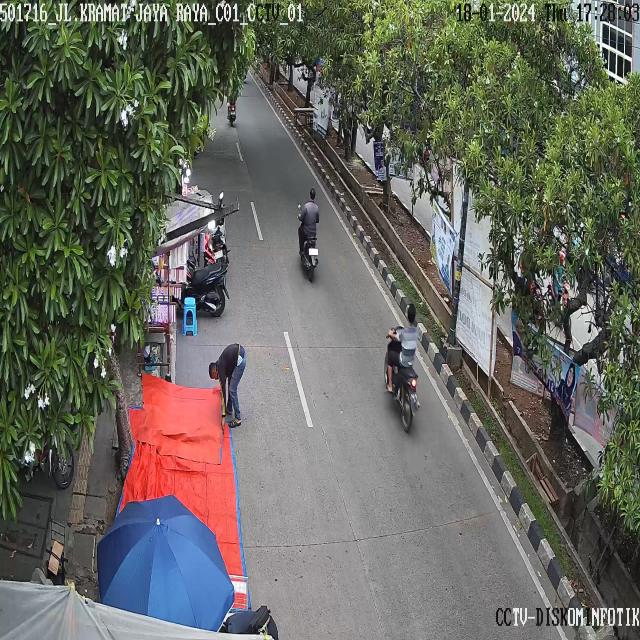Emperan: (137, 210, 198, 357)
Payung: (97, 503, 239, 633)
Terpal: (118, 358, 248, 605)
